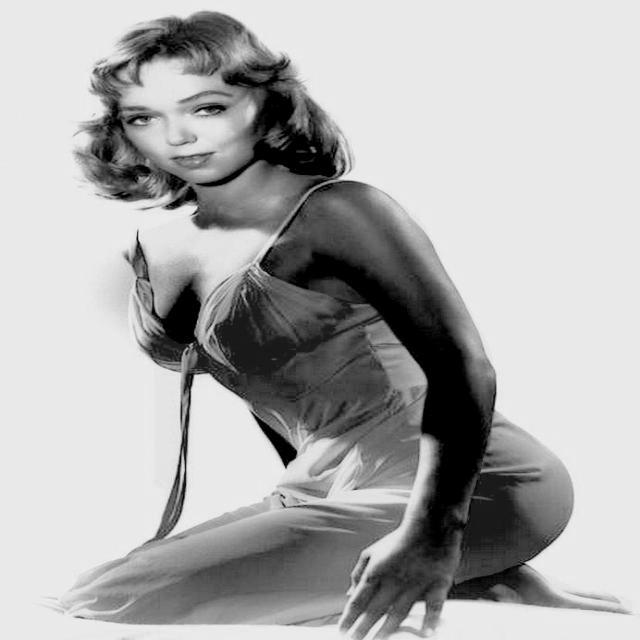real: (124, 63, 258, 180)
